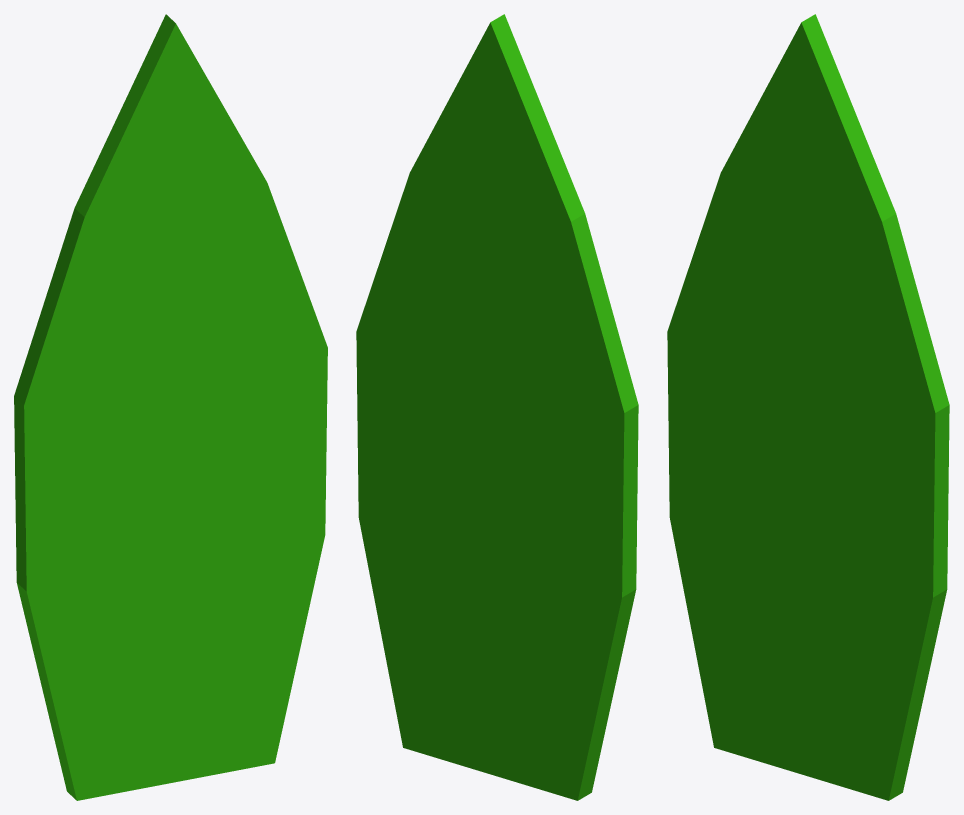
File: Rigged Grass Export 57.fbx
The picture shows the model from 3 angles, left to right: view 1: azimuth 30°, elevation 25°; view 2: azimuth 150°, elevation 25°; view 3: azimuth 330°, elevation 25°; orthographic projection.
Visible parts, largest first — view 1: Grass 4 Left Right 1; view 2: Grass 4 Left Right 1; view 3: Grass 4 Left Right 1.
Part boxes in pixels (x1,y1,x2,y2): Grass 4 Left Right 1: [14, 14, 327, 800]; Grass 4 Left Right 1: [356, 14, 638, 800]; Grass 4 Left Right 1: [667, 14, 949, 800].
Bounding box in the file's own units: 132 × 331 × 22.91.
